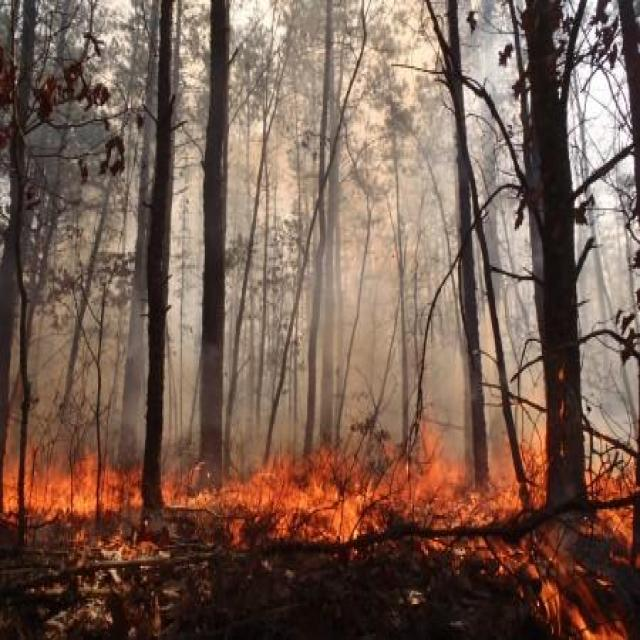Fire: (3, 404, 640, 622)
